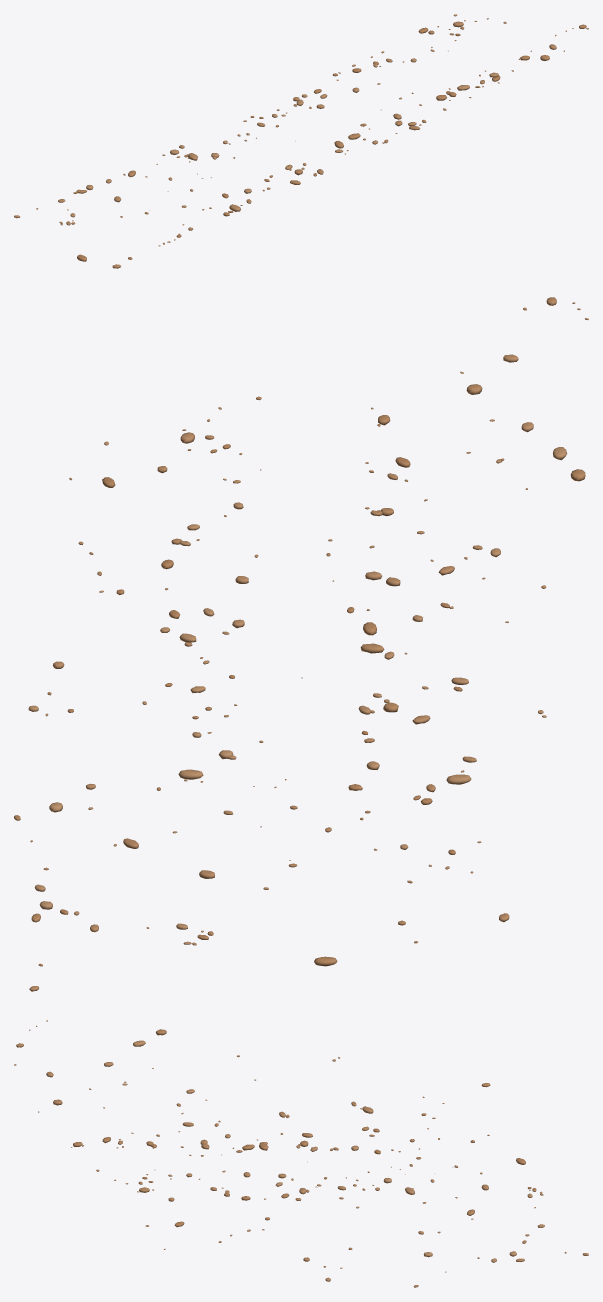
The model's file is terrain-111.glb.
The picture shows the model from 3 angles, top to bottom: view 1: azimuth 90°, elevation 25°; view 2: azimuth 150°, elevation 25°; view 3: azimuth 270°, elevation 25°; orthographic projection. The views are drawn at different scales.
Visible parts, largest first — view 1: terrain-111; view 2: terrain-111; view 3: terrain-111.
Boxes of the visible parts, bbox=[...] form: terrain-111: bbox=[14, 14, 588, 268]; terrain-111: bbox=[14, 297, 588, 991]; terrain-111: bbox=[14, 1020, 588, 1287].
Bounding box in the file's own units: 57.94 × 27.64 × 69.06.
